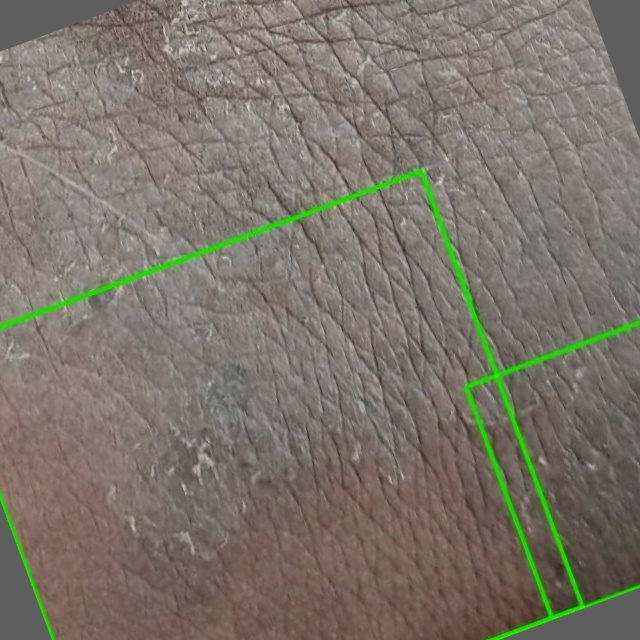Eczema: (0, 172, 583, 639)
